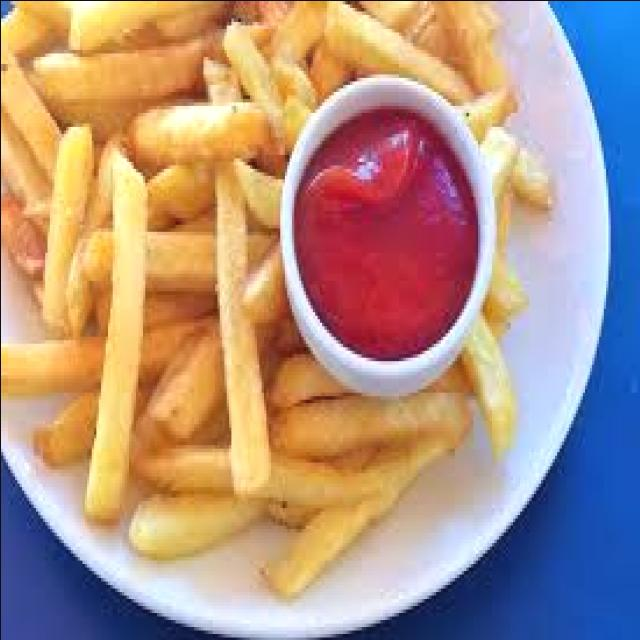kentang goreng: (81, 136, 147, 528)
